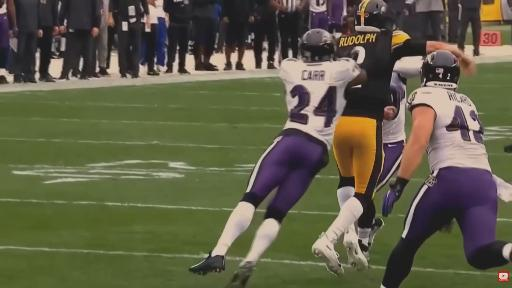Helmet: (421, 51, 460, 89), (300, 29, 335, 62), (355, 0, 393, 29)
Jersey: (337, 31, 426, 119), (280, 59, 360, 148), (408, 87, 490, 171), (383, 73, 406, 142)
Player: (190, 30, 367, 286), (312, 0, 475, 260), (382, 51, 511, 287), (376, 59, 421, 192)
